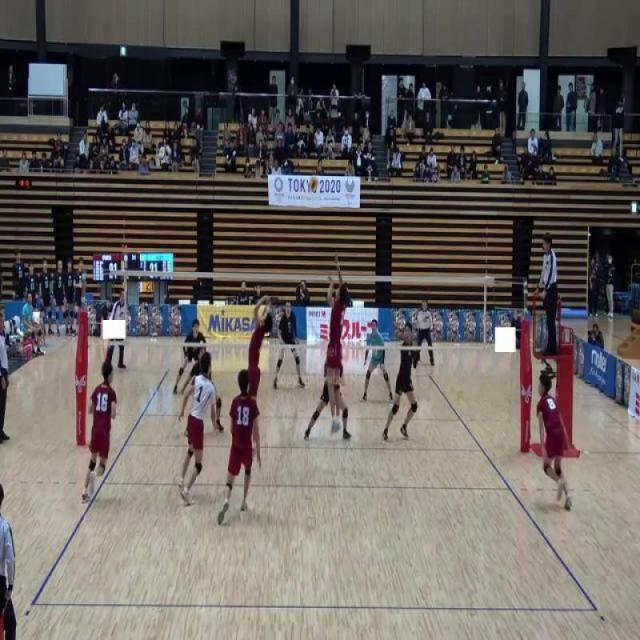volleyball: (309, 176, 319, 190)
